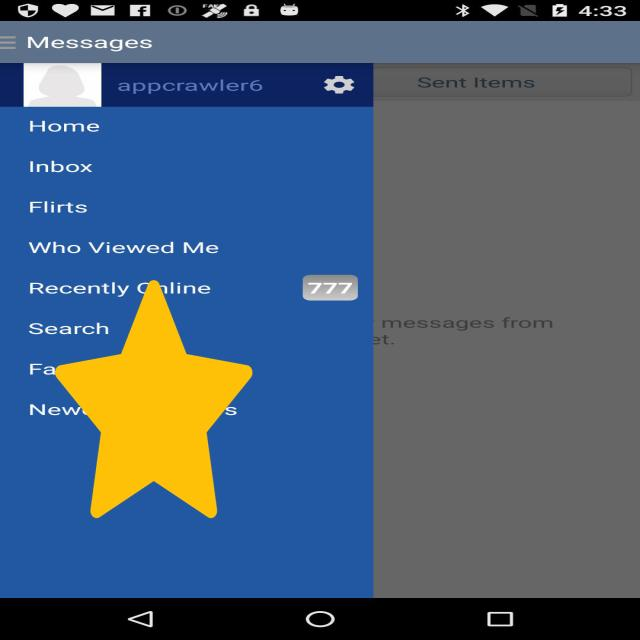forced continuity: (55, 280, 253, 518)
